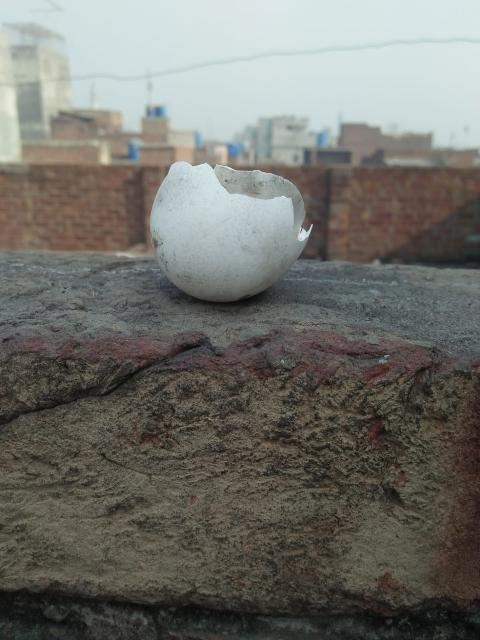Roto: (148, 160, 313, 303)
